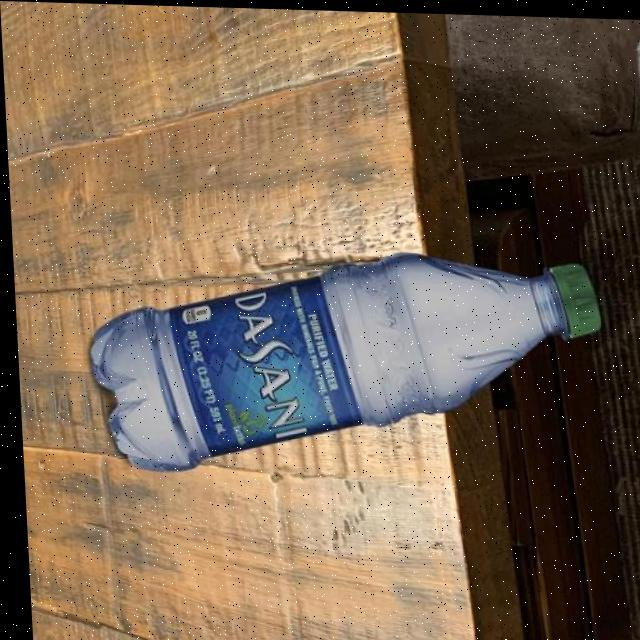bottle: (79, 241, 604, 484)
